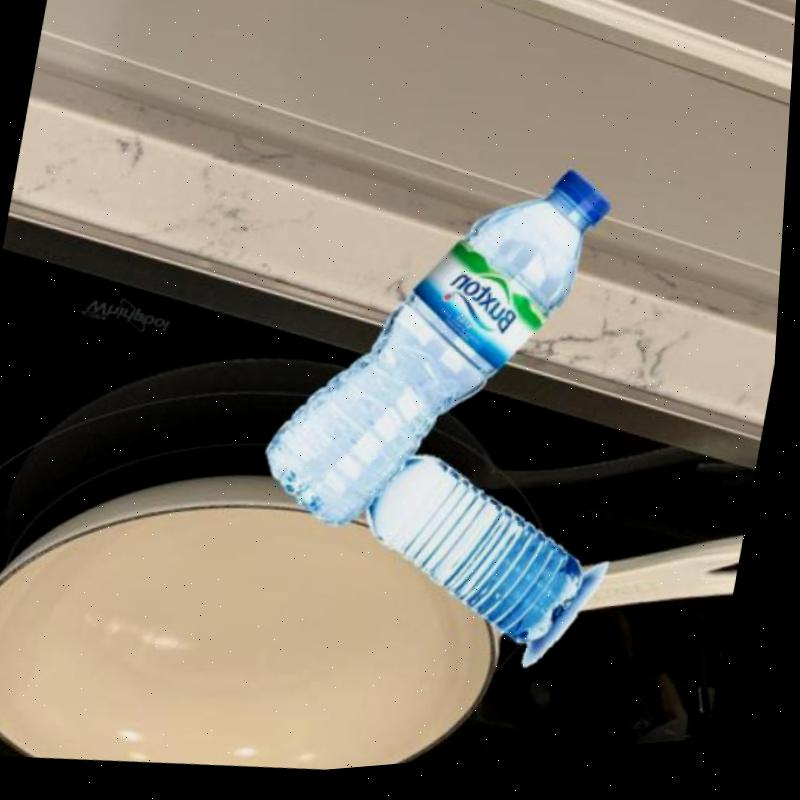botella: (257, 147, 617, 565), (348, 439, 614, 670)
